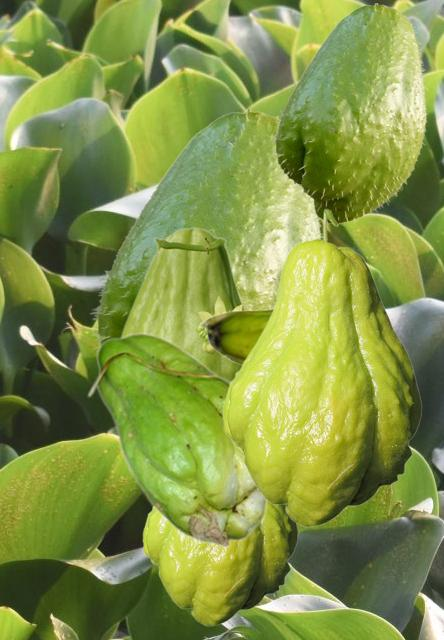sayote: (222, 208, 421, 526), (89, 109, 321, 350), (86, 332, 269, 547), (270, 3, 427, 226), (120, 227, 245, 379), (142, 503, 297, 625), (199, 308, 272, 365)
